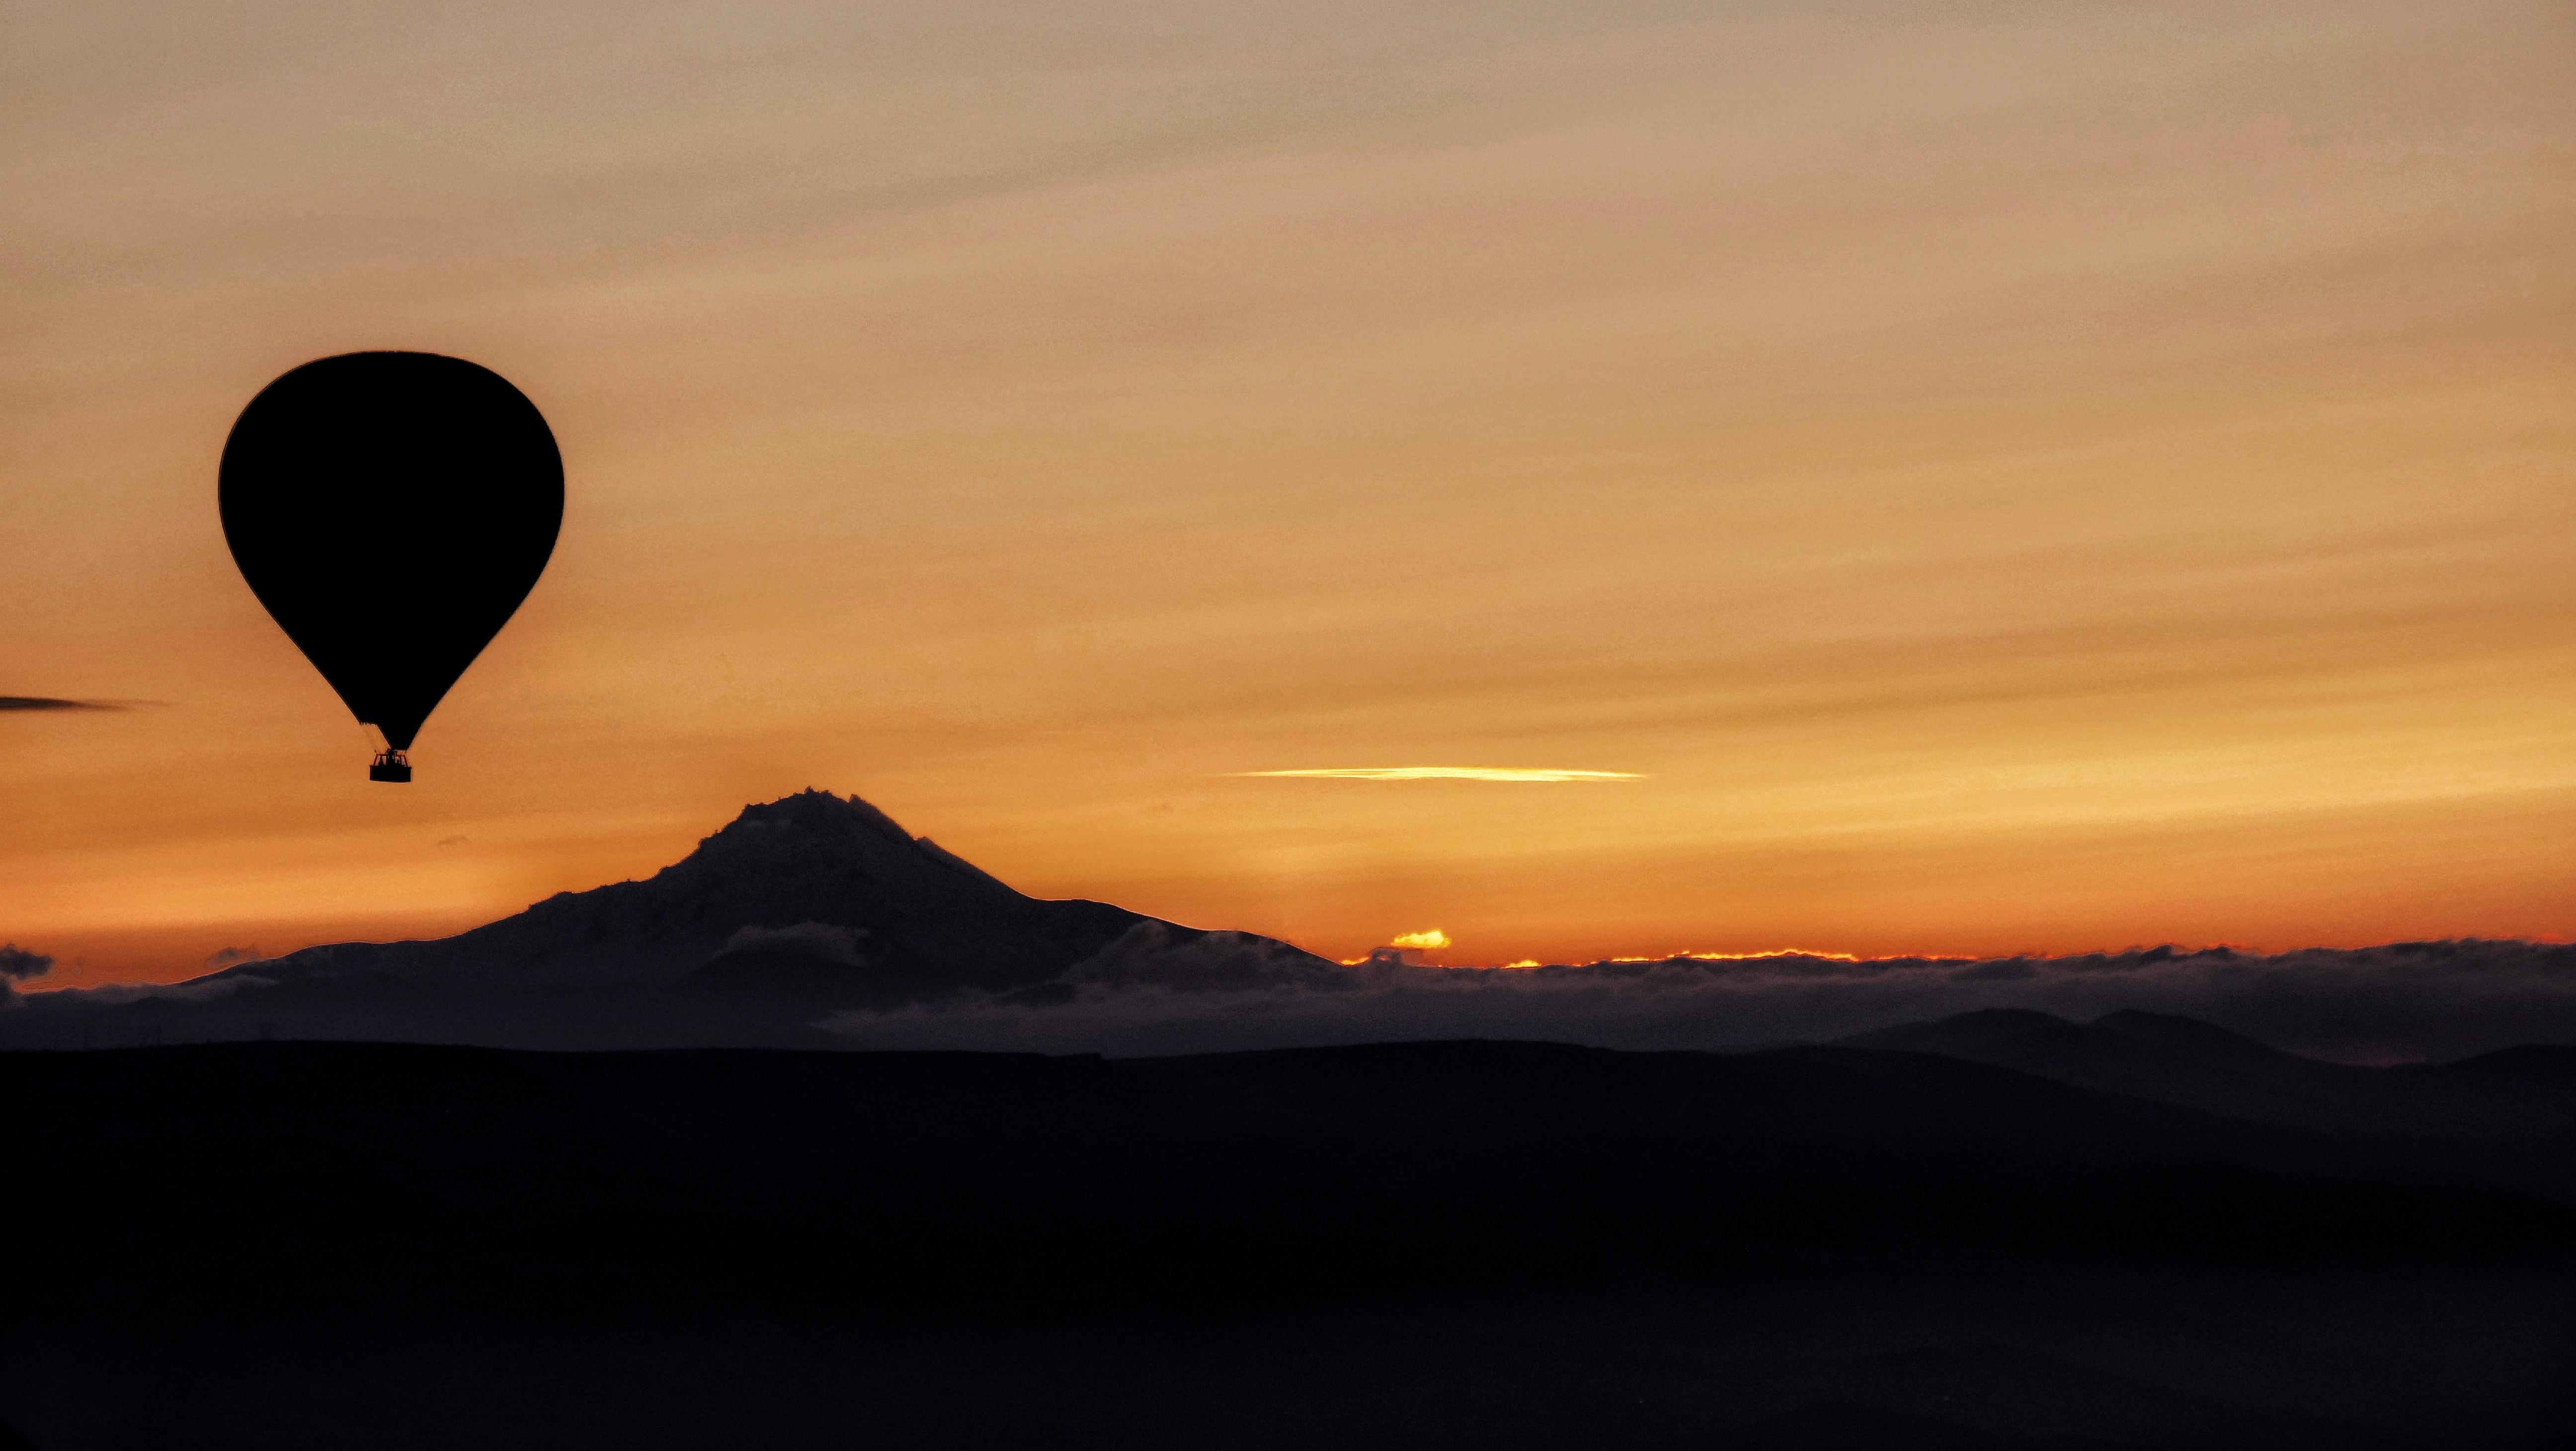hot air ballon: (223, 350, 568, 782)
